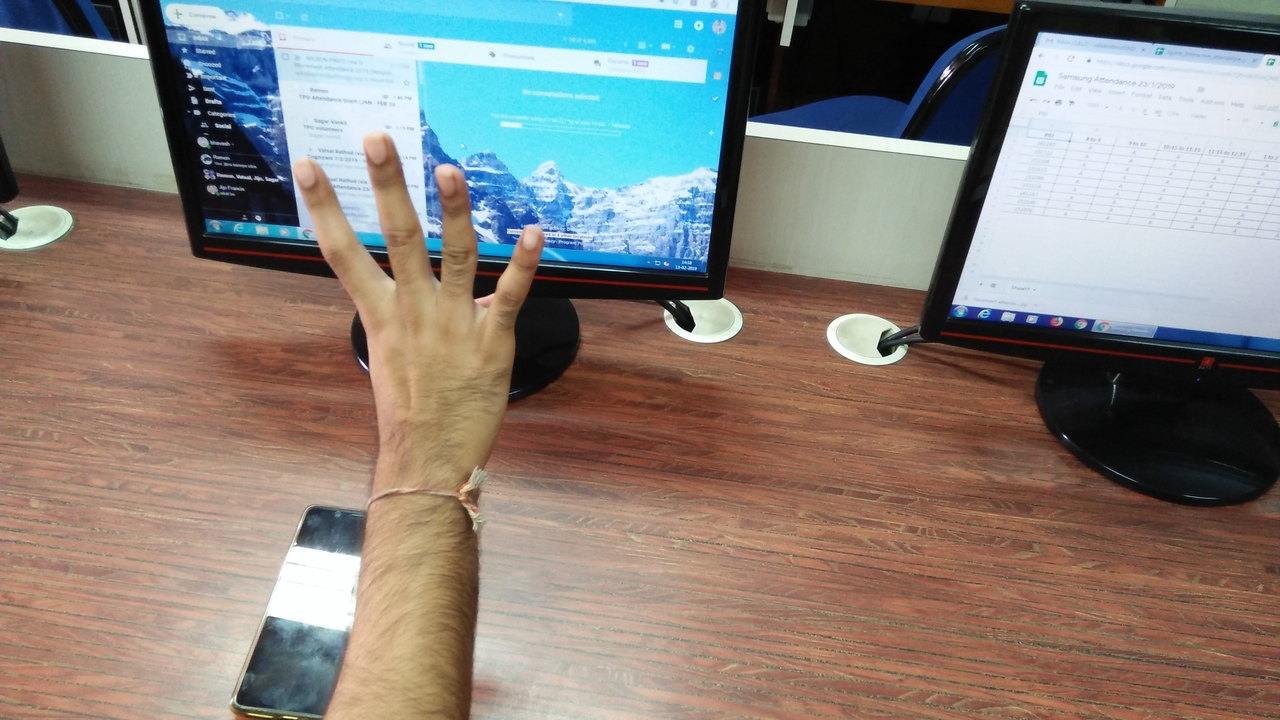fingertip: (272, 154, 329, 201), (502, 212, 554, 260), (348, 122, 402, 164), (430, 156, 472, 199)
